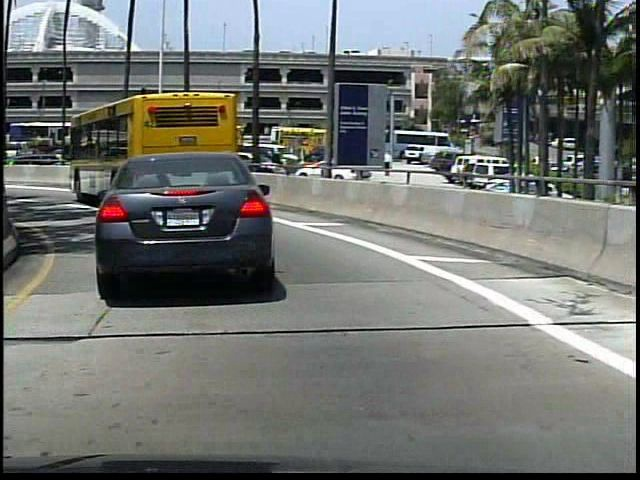person: (268, 148, 283, 180), (380, 149, 395, 179)
